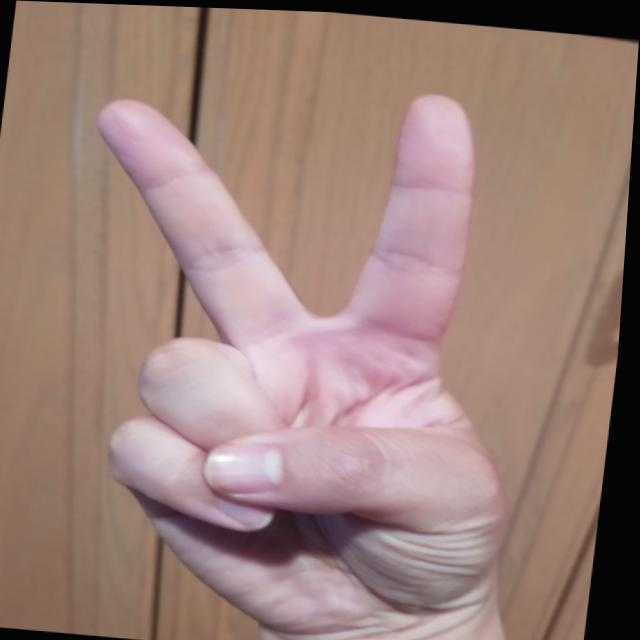V: (26, 52, 579, 639)
